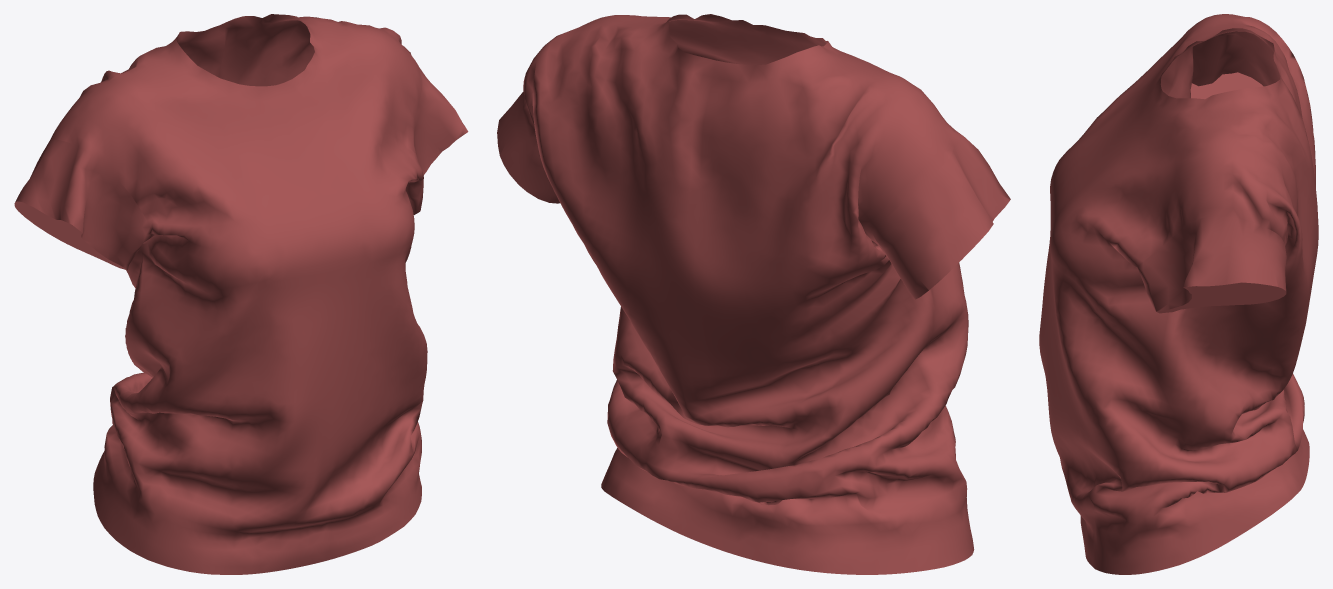
File: femSM.glb
3 views of the same model, side by side, from view 1: azimuth 30°, elevation 25°; view 2: azimuth 150°, elevation 25°; view 3: azimuth 270°, elevation 25° (orthographic). The views are drawn at different scales.
Parts seen in each view (by area): view 1: pink tshirt _F_sleeves_FRONT_296373_0; view 2: pink tshirt _F_sleeves_FRONT_296373_0; view 3: pink tshirt _F_sleeves_FRONT_296373_0.
Boxes of the visible parts, <box> form: pink tshirt _F_sleeves_FRONT_296373_0: <box>14,14,468,574</box>; pink tshirt _F_sleeves_FRONT_296373_0: <box>497,14,1010,574</box>; pink tshirt _F_sleeves_FRONT_296373_0: <box>1039,14,1318,574</box>.
Size of the model in its own units: 0.5084 by 0.5502 by 0.2927.
